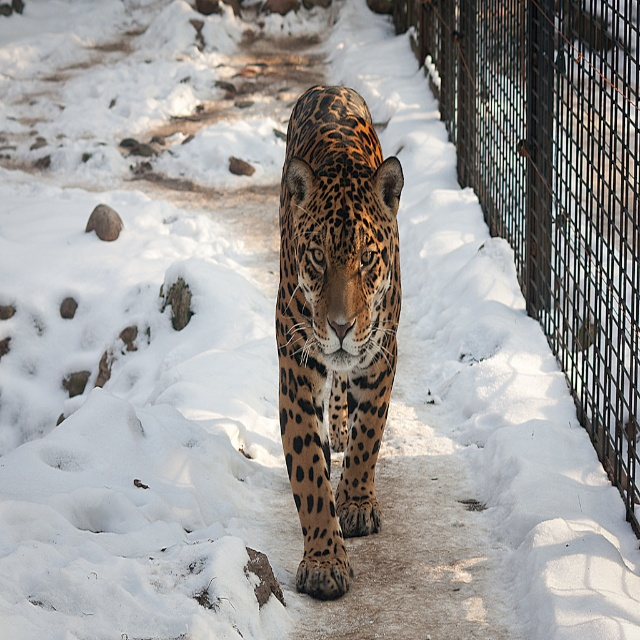Leopard: (276, 80, 404, 591)
